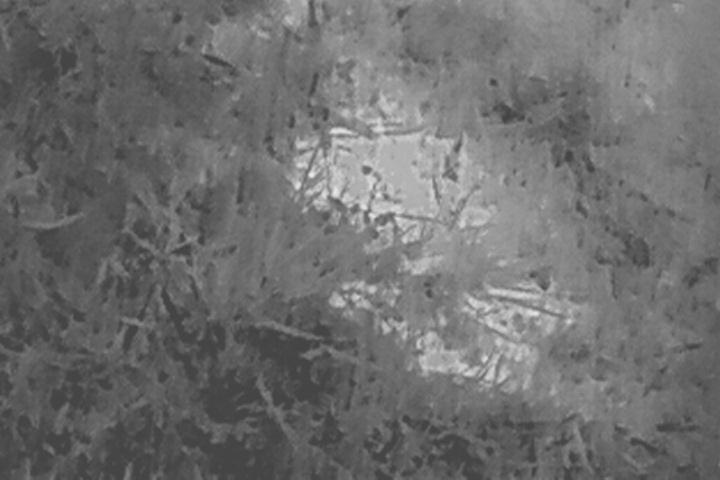landmine: (301, 132, 473, 225)
